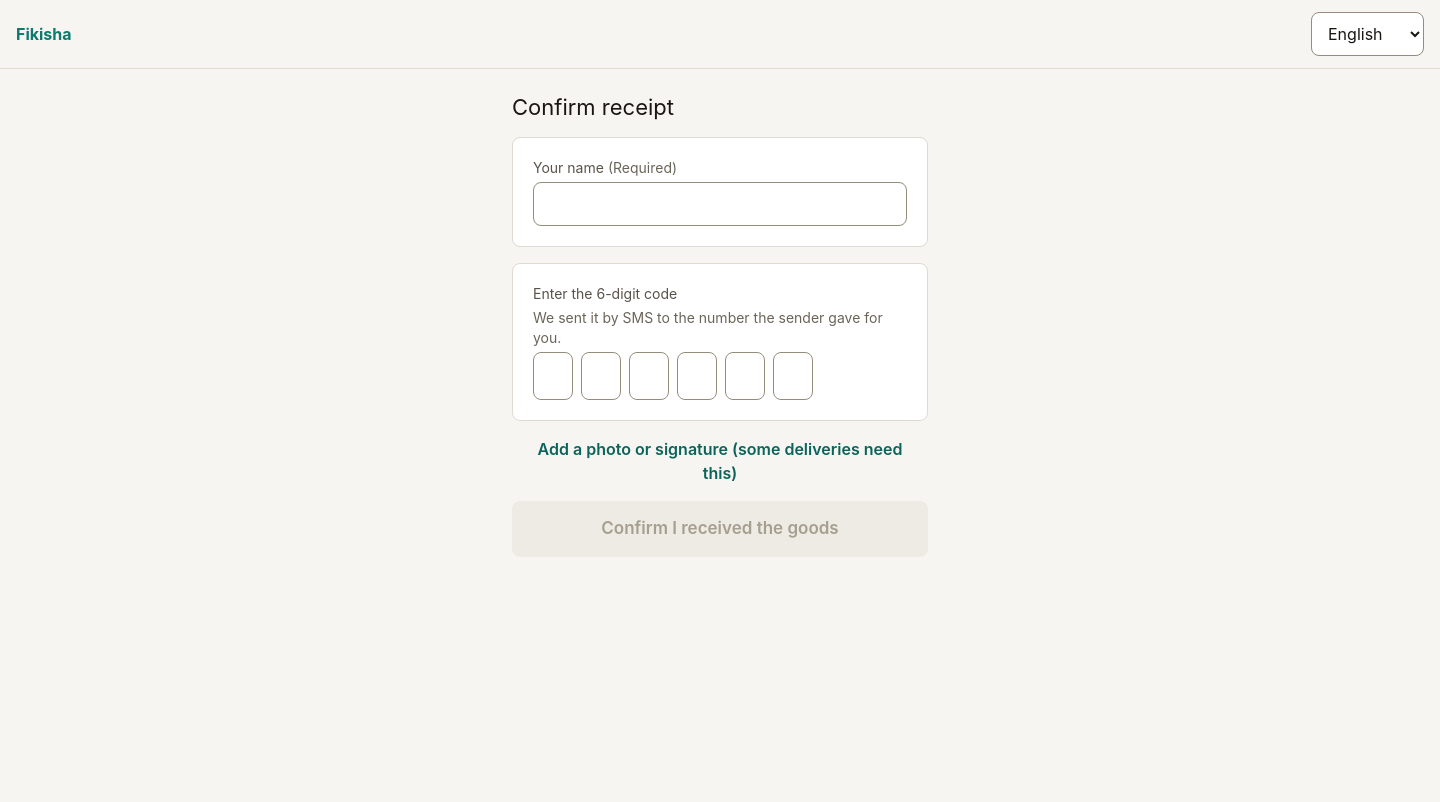
RecipientConfirmPage › a delivery_proof_incomplete rejection prompts for a photo without clearing the entered name/OTP
Type "A. Recipient" into the field labelled "Your name(Required)" at (720, 204), box [533,182,907,226]
Type "0" into the field named "Digit 1 of 6" at (553, 376), box [533,352,573,400]
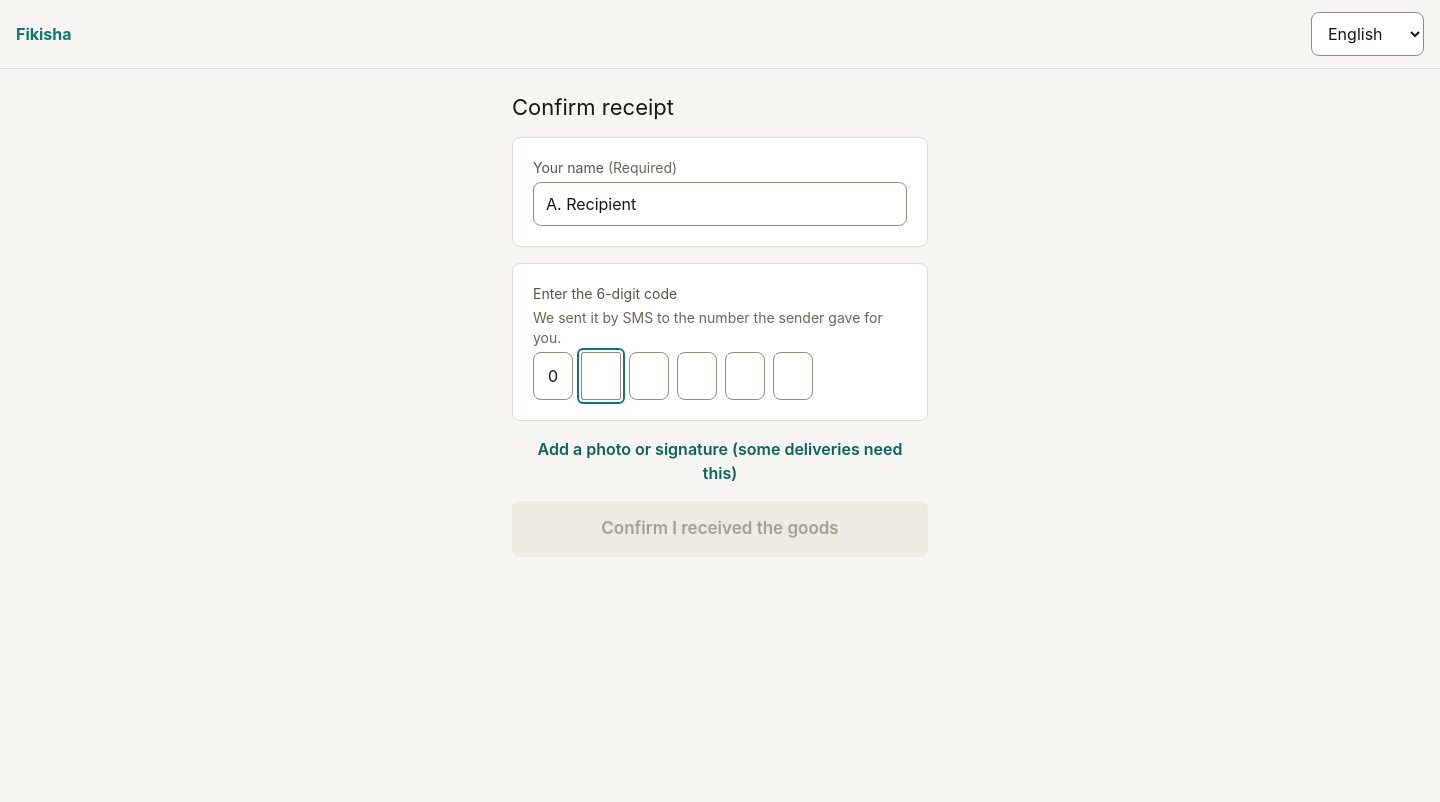
Type "0" into the field named "Digit 2 of 6" at (601, 376), box [581,352,621,400]
Type "0" into the field named "Digit 3 of 6" at (649, 376), box [629,352,669,400]
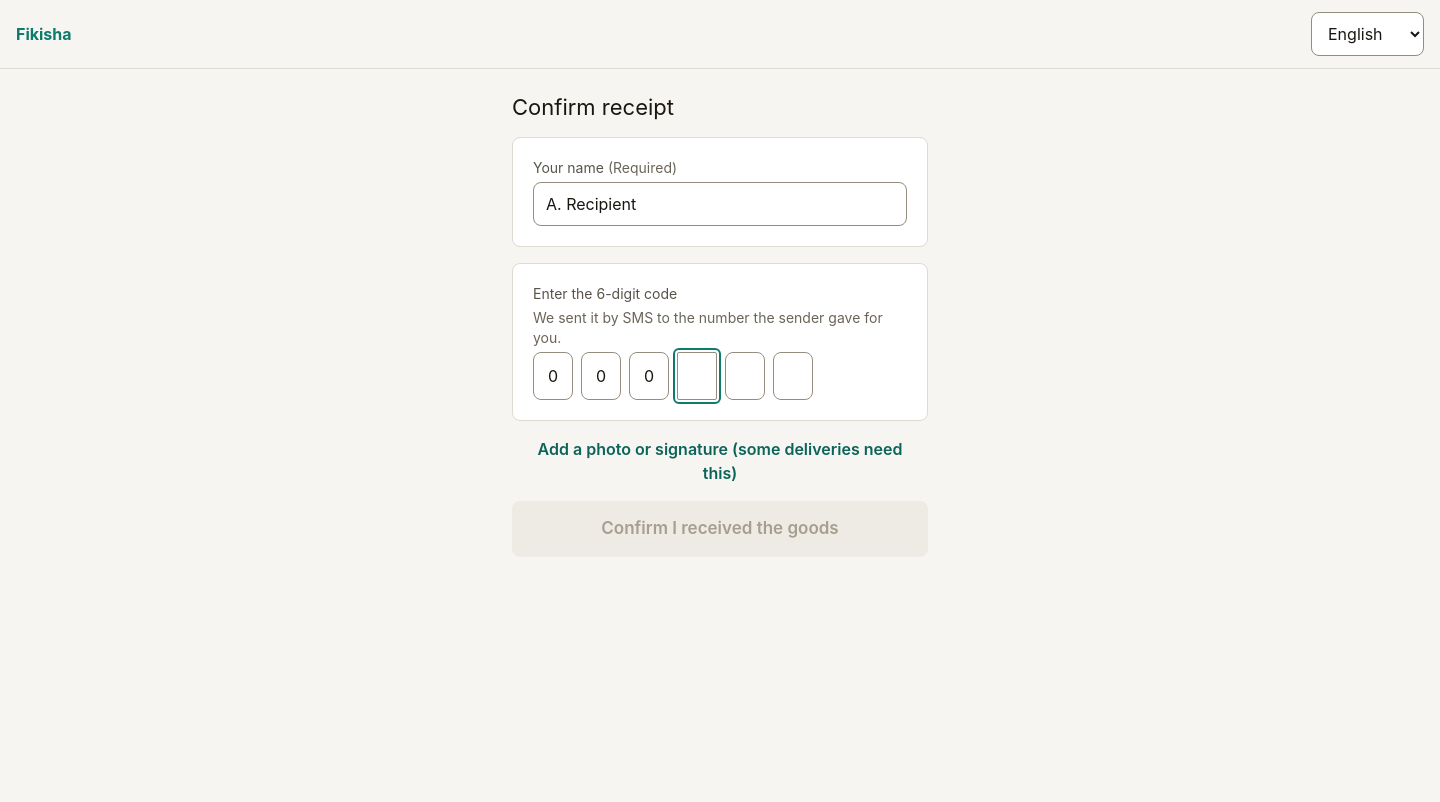
Type "0" into the field named "Digit 4 of 6" at (697, 376), box [677,352,717,400]
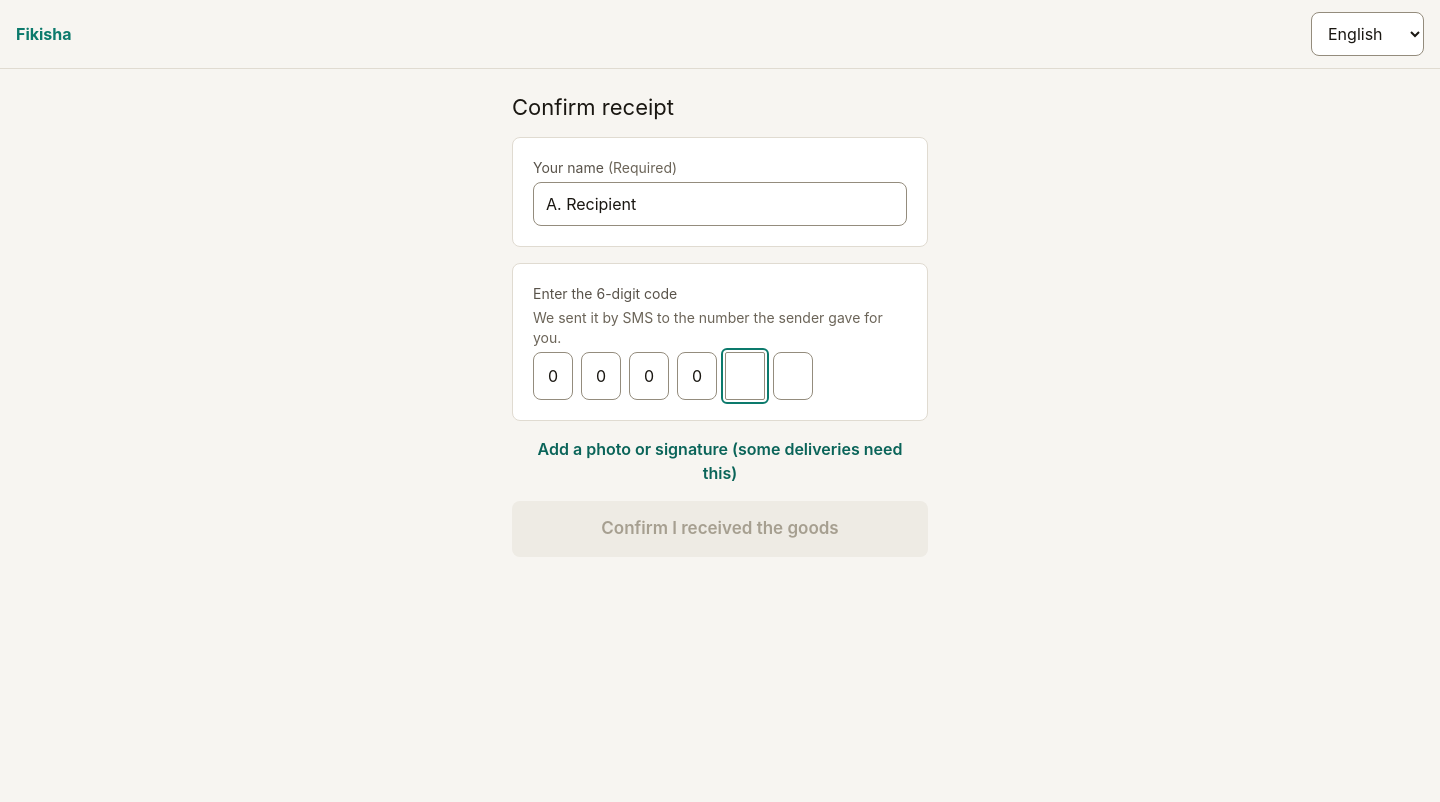
Type "0" into the field named "Digit 5 of 6" at (745, 376), box [725,352,765,400]
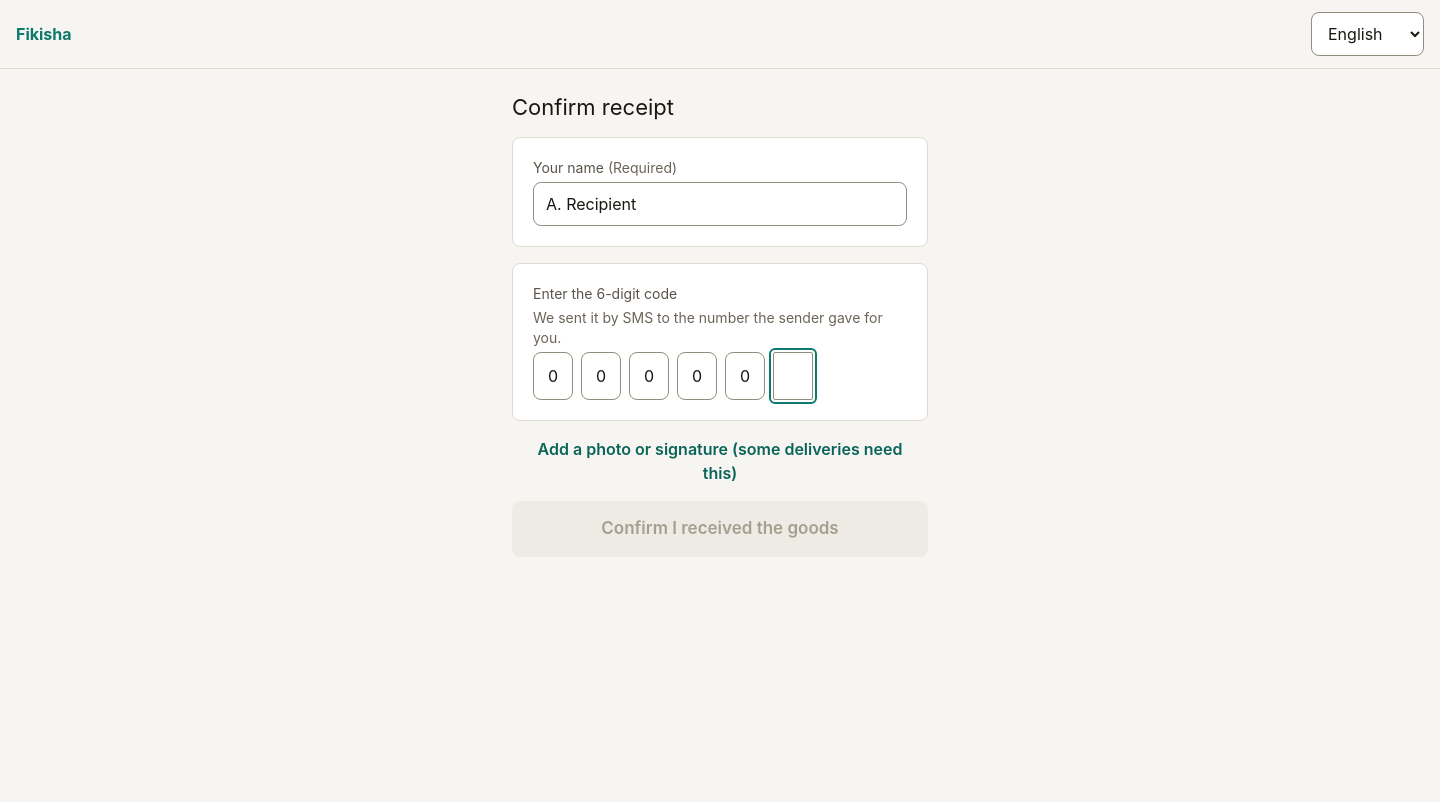
Type "0" into the field named "Digit 6 of 6" at (793, 376), box [773,352,813,400]
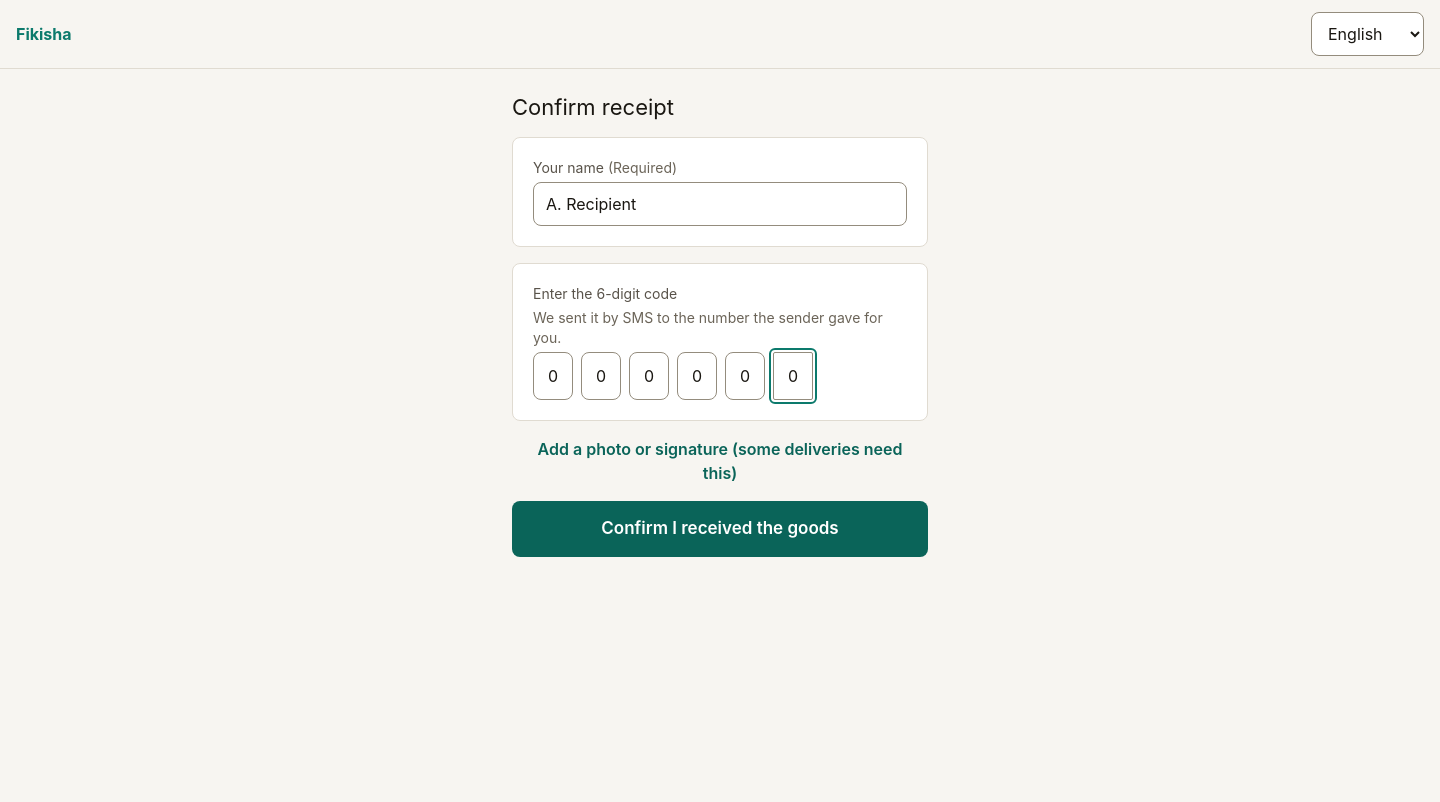
Click the button "Confirm I received the goods" at (720, 529), box [512,501,928,557]
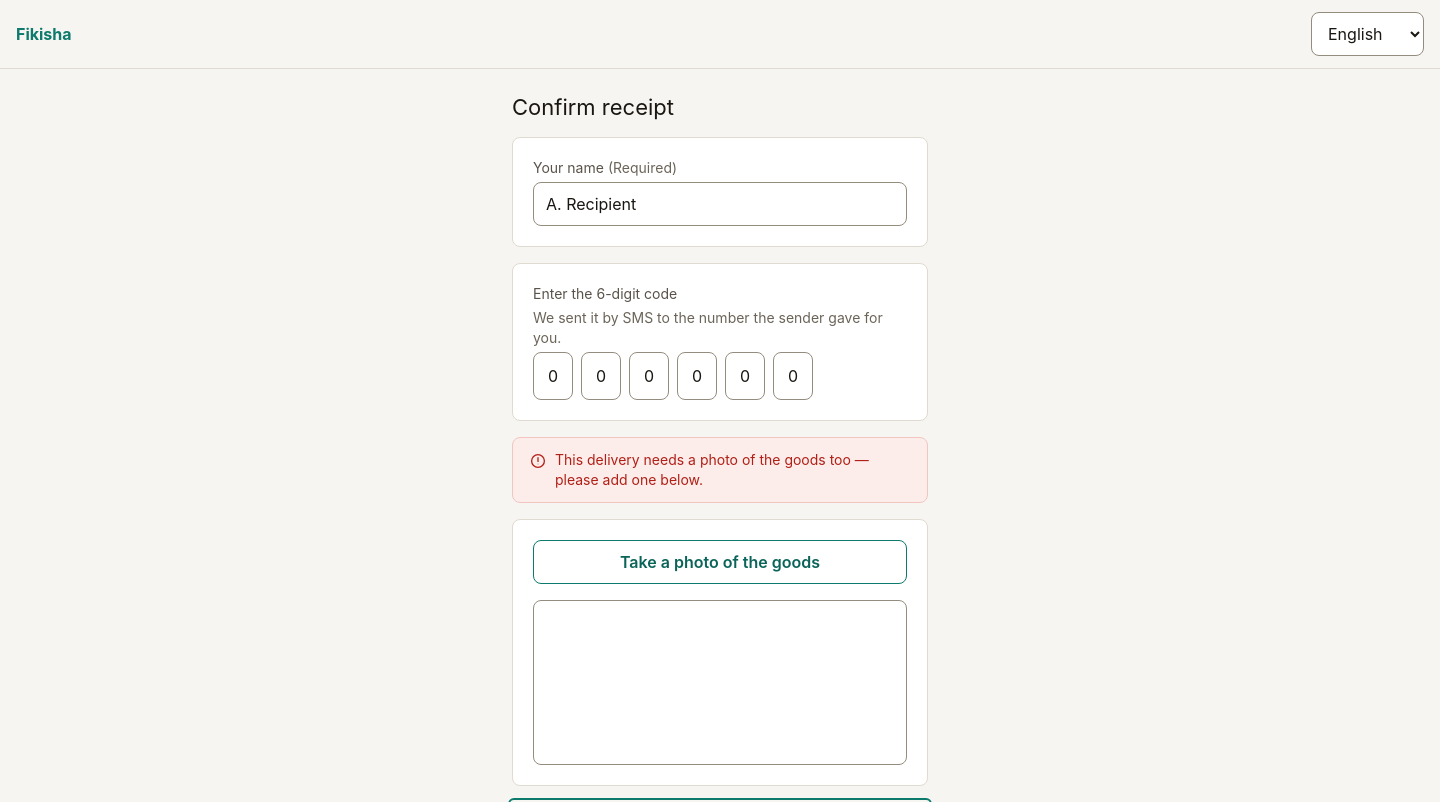
Check: the text "This delivery needs a photo of the goods too — please add one below." is shown, box [555,450,911,490]
Check: the element labelled "Take a photo of the goods" is shown, box [533,540,907,584]
